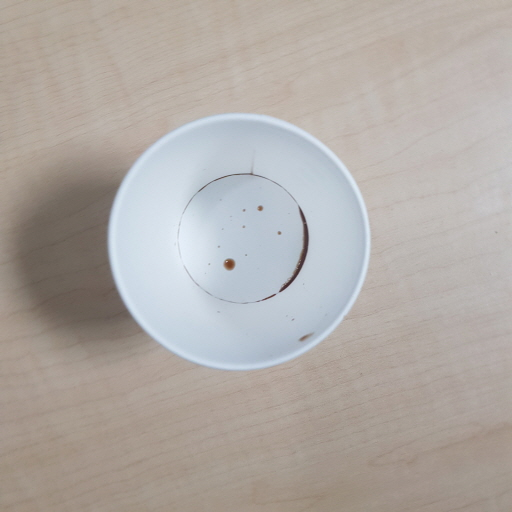Paper_1: (108, 112, 372, 372)
